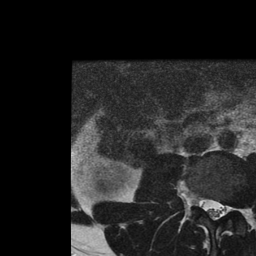CCS_normal: (210, 190, 219, 226)
LFS_stenosis: (229, 193, 238, 220)
LLS_normal: (219, 191, 229, 223)
RFS_normal: (191, 183, 200, 214)
RLS_normal: (200, 188, 210, 221)
